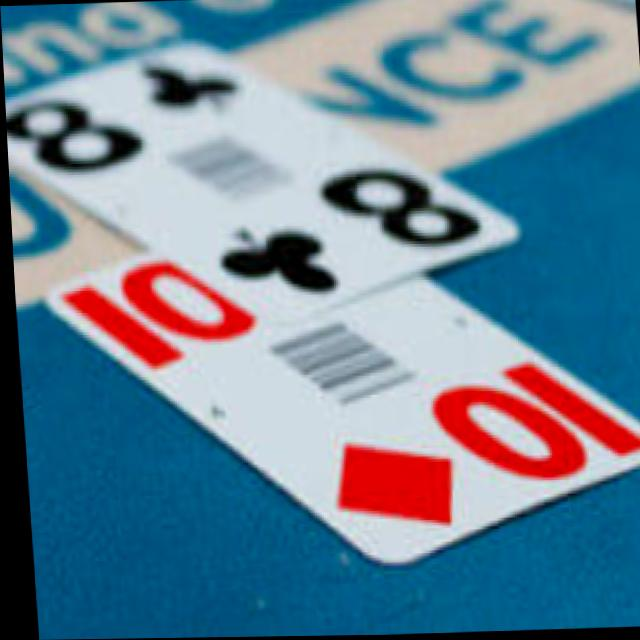Card-10: (40, 251, 640, 569)
Card-8: (4, 35, 518, 325)
